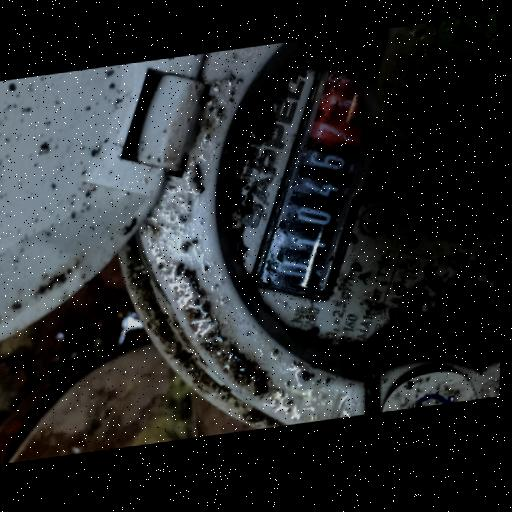0: (280, 187, 345, 241), (263, 244, 329, 297)
1: (271, 216, 336, 269)
4: (289, 160, 353, 212)
5: (313, 85, 374, 135)
6: (297, 135, 360, 185)
7: (306, 111, 367, 159)
border_water_meter_number: (231, 42, 418, 315)
